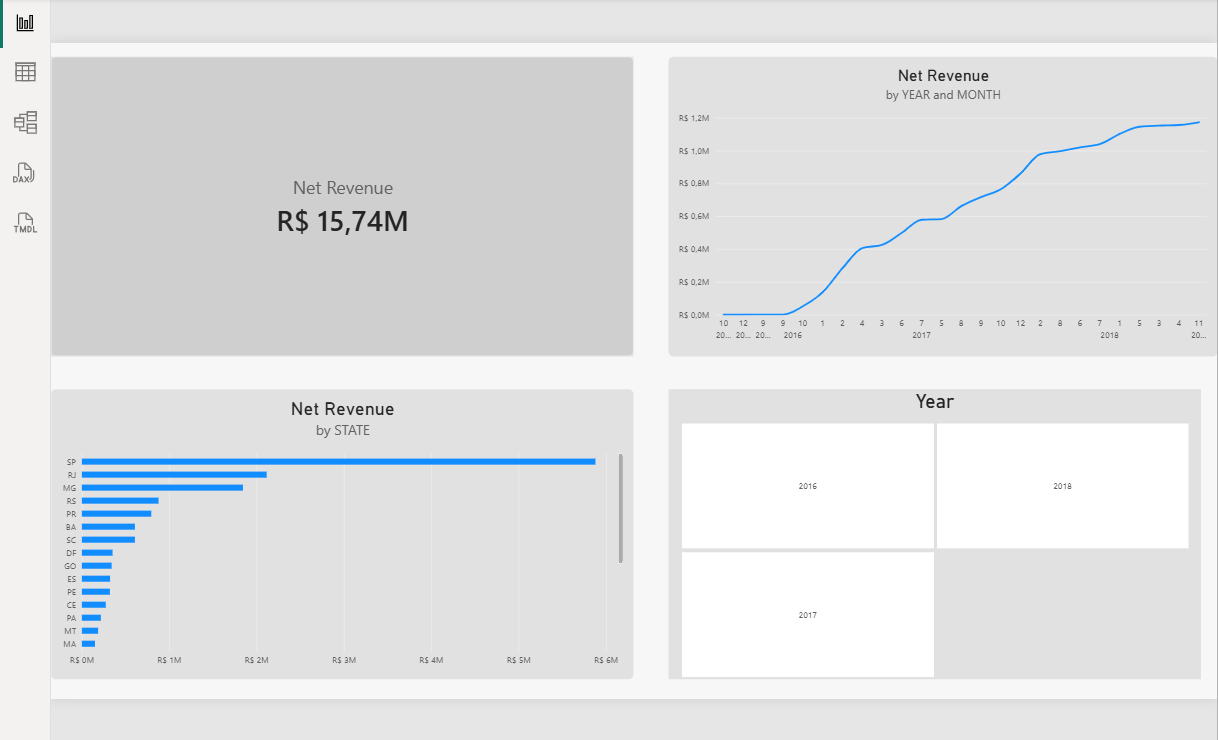

What the dashboard file says about the page in this screenshot:
{"tool":"powerbi","page":{"name":"Page 1","canvas":[1920,1080],"ordinal":0},"visuals":[{"type":"cardVisual","fields":{"Data":["FCT_ORDERS.Net Revenue"]},"box":[0,22.6,959.2,494],"z":0},{"type":"lineChart","fields":{"Category":["DIM_DATE.YEAR","DIM_DATE.MONTH"],"Y":["FCT_ORDERS.Net Revenue"]},"box":[1016.8,22.6,903.6,494],"z":1},{"type":"clusteredBarChart","fields":{"Category":["DIM_CUSTOMERS.STATE"],"Y":["FCT_ORDERS.Net Revenue"]},"box":[0,570.2,959.2,477.5],"z":2},{"type":"slicer","title":"Year","fields":{"Values":["DIM_DATE.YEAR"]},"box":[1016.8,570.2,876.8,477.5],"z":3}]}

Visuals, with their boxes on the page's 1920x1080 design canvas (x1, y1, x2, y2). These are canvas units, not pixel positions in the 1218x740 screenshot, which may show the page scaled, cropped or inside an application window:
cardVisual - FCT_ORDERS.Net Revenue: box=[0, 23, 959, 517]
lineChart - DIM_DATE.YEAR x DIM_DATE.MONTH: box=[1017, 23, 1920, 517]
clusteredBarChart - DIM_CUSTOMERS.STATE x FCT_ORDERS.Net Revenue: box=[0, 570, 959, 1048]
"Year" slicer: box=[1017, 570, 1894, 1048]
